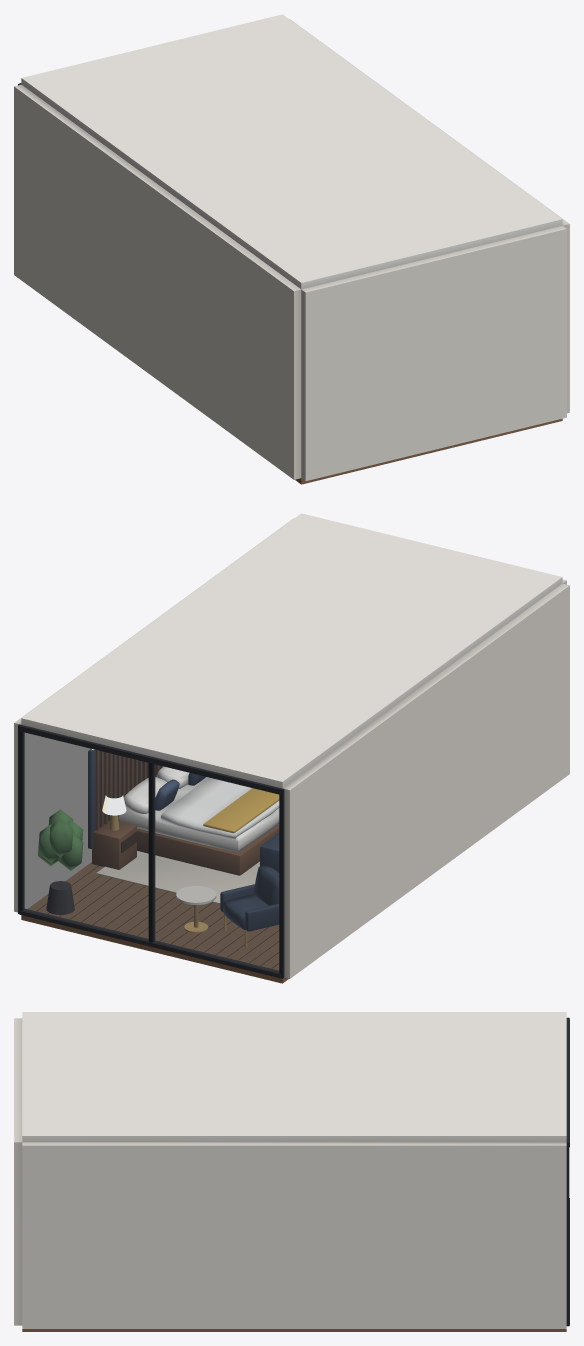
Rendered from tk-deluxe.glb.
The picture shows the model from 3 angles, top to bottom: view 1: azimuth 30°, elevation 25°; view 2: azimuth 150°, elevation 25°; view 3: azimuth 270°, elevation 25°; orthographic projection. The views are drawn at different scales.
Visible parts, largest first — view 1: Room_wall, Room_ceiling, Room_floor; view 2: Room_ceiling, Room_wall, Room_glass, Room_floor, Room_frameDark, Room_wood, Room_linen, Room_rug, Room_fabric2, Room_duvet, Room_leaf, Room_throw (+6 smaller); view 3: Room_wall, Room_ceiling, Room_floor, Room_frameDark.
Boxes of the visible parts, bbox=[...] form: Room_wall: bbox=[14, 19, 569, 480]; Room_ceiling: bbox=[21, 14, 562, 289]; Room_floor: bbox=[295, 418, 562, 484]; Room_ceiling: bbox=[21, 513, 562, 788]; Room_wall: bbox=[14, 518, 569, 978]; Room_glass: bbox=[24, 733, 278, 971]; Room_floor: bbox=[21, 862, 288, 983]; Room_frameDark: bbox=[18, 724, 284, 978]; Room_wood: bbox=[92, 750, 279, 875]; Room_linen: bbox=[119, 766, 279, 852]; Room_rug: bbox=[96, 851, 259, 903]; Room_fabric2: bbox=[220, 832, 279, 931]; Room_duvet: bbox=[160, 777, 279, 839]; Room_leaf: bbox=[38, 809, 83, 870]; Room_throw: bbox=[203, 788, 279, 833]; Room_wall: bbox=[14, 1018, 566, 1328]; Room_ceiling: bbox=[22, 1012, 566, 1142]; Room_floor: bbox=[22, 1329, 566, 1331]; Room_frameDark: bbox=[566, 1017, 569, 1326].
Size of the model in its own units: 4.44 by 3.1 by 7.97.
